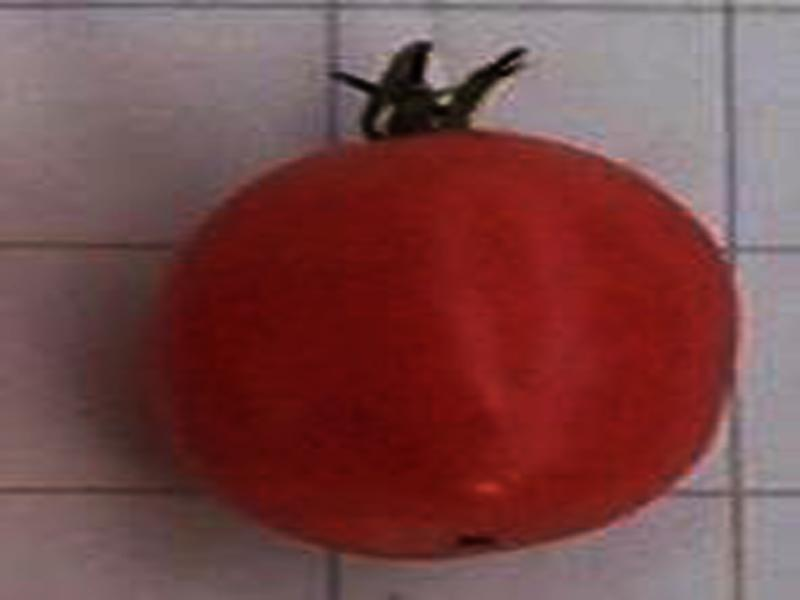Tomato: (151, 132, 735, 560)
